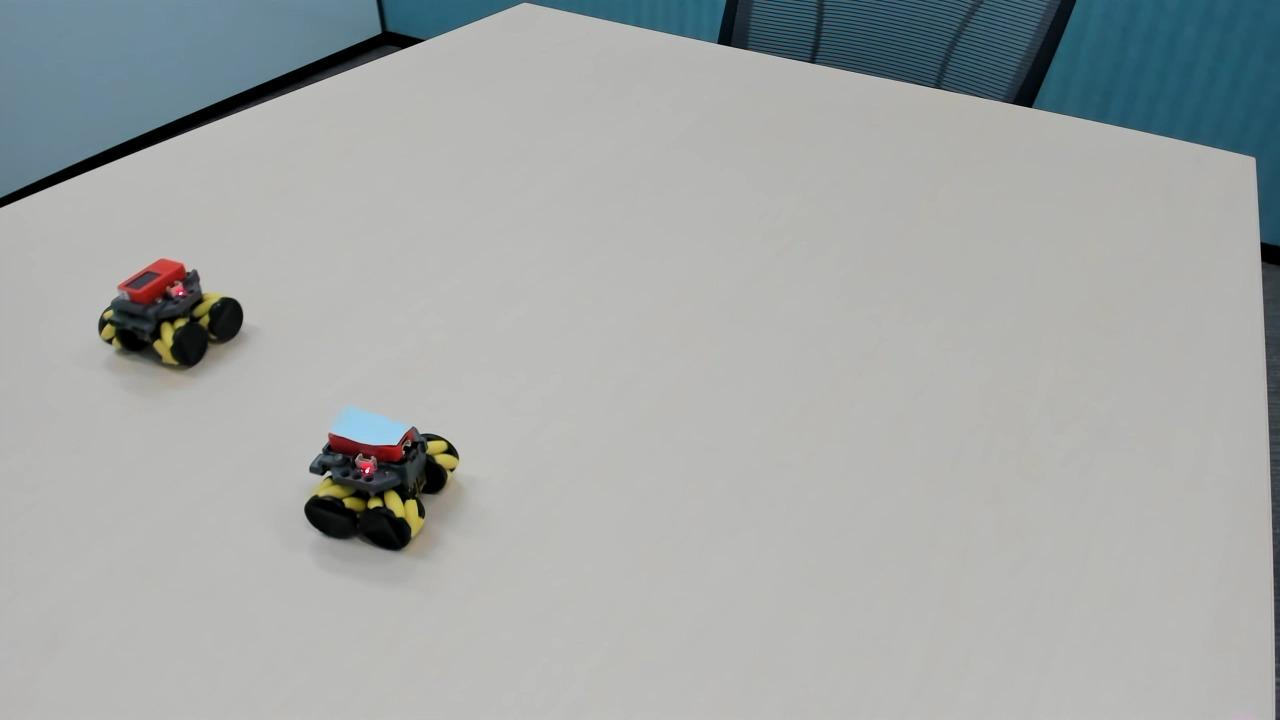B-Robot: (290, 396, 462, 569)
R-Robot: (90, 254, 256, 381)
